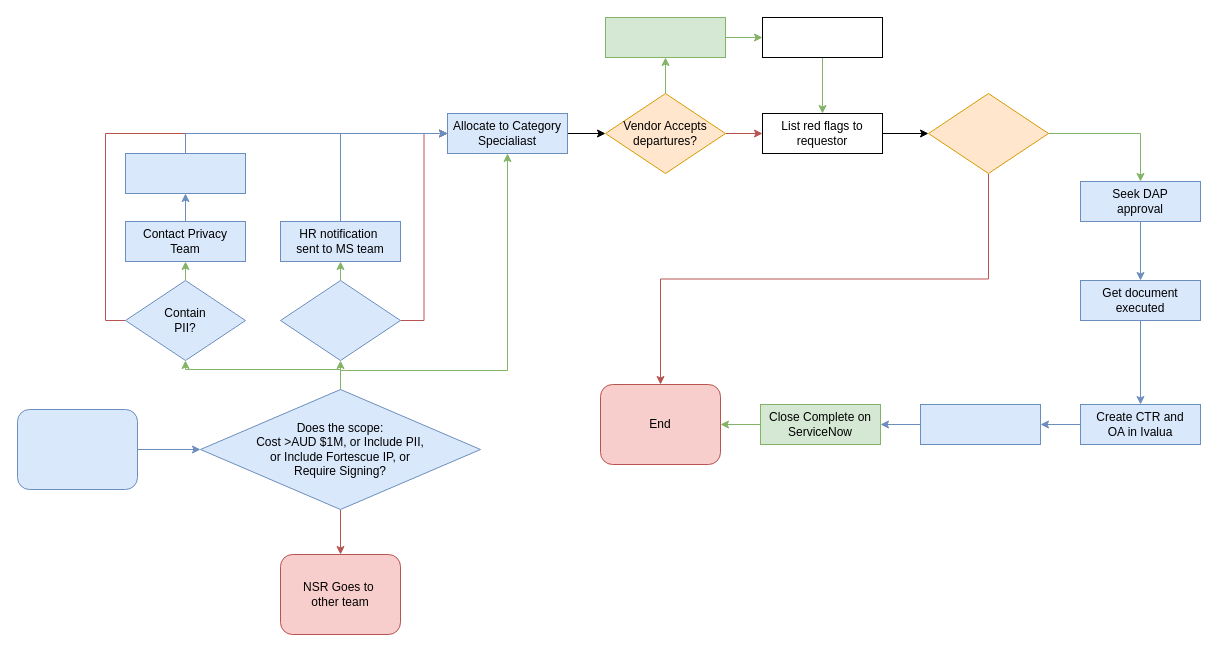
Image size: 1218x652. Some labels were removed from this diagram. The centre of each missing label's shape, as x and y in pixels:
"Add closure notes to ServiceNow Ticket" goes at (980,424).
"Is supplier high risk?" goes at (340,320).
"Negotiate with Vendor" goes at (822,37).
"Requestor Wants to proceed?" goes at (988,133).
"Review T&C's" goes at (665,37).
"Seek guidance on actions required" goes at (185,173).
"START NSR Raised in ServiceNow" goes at (77,449).
